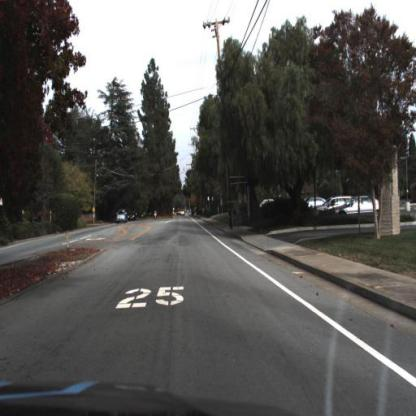car: (331, 195, 382, 220), (336, 196, 389, 215), (315, 192, 354, 212), (312, 197, 355, 215), (114, 208, 129, 226), (115, 208, 129, 226)
